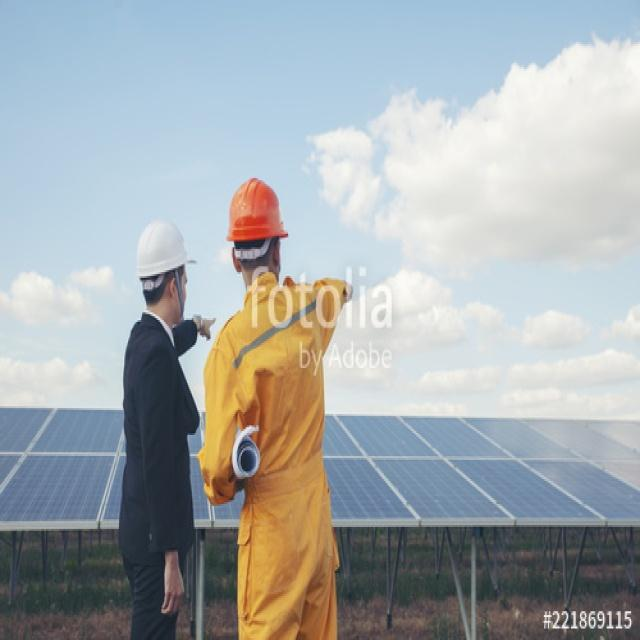helmet: (223, 233, 290, 384), (135, 290, 200, 438)
